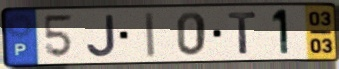0: (175, 10, 208, 58)
1: (268, 7, 291, 58)
5: (41, 13, 76, 61)
I: (144, 11, 157, 60)
J: (84, 13, 118, 59)
T: (227, 10, 260, 56)
